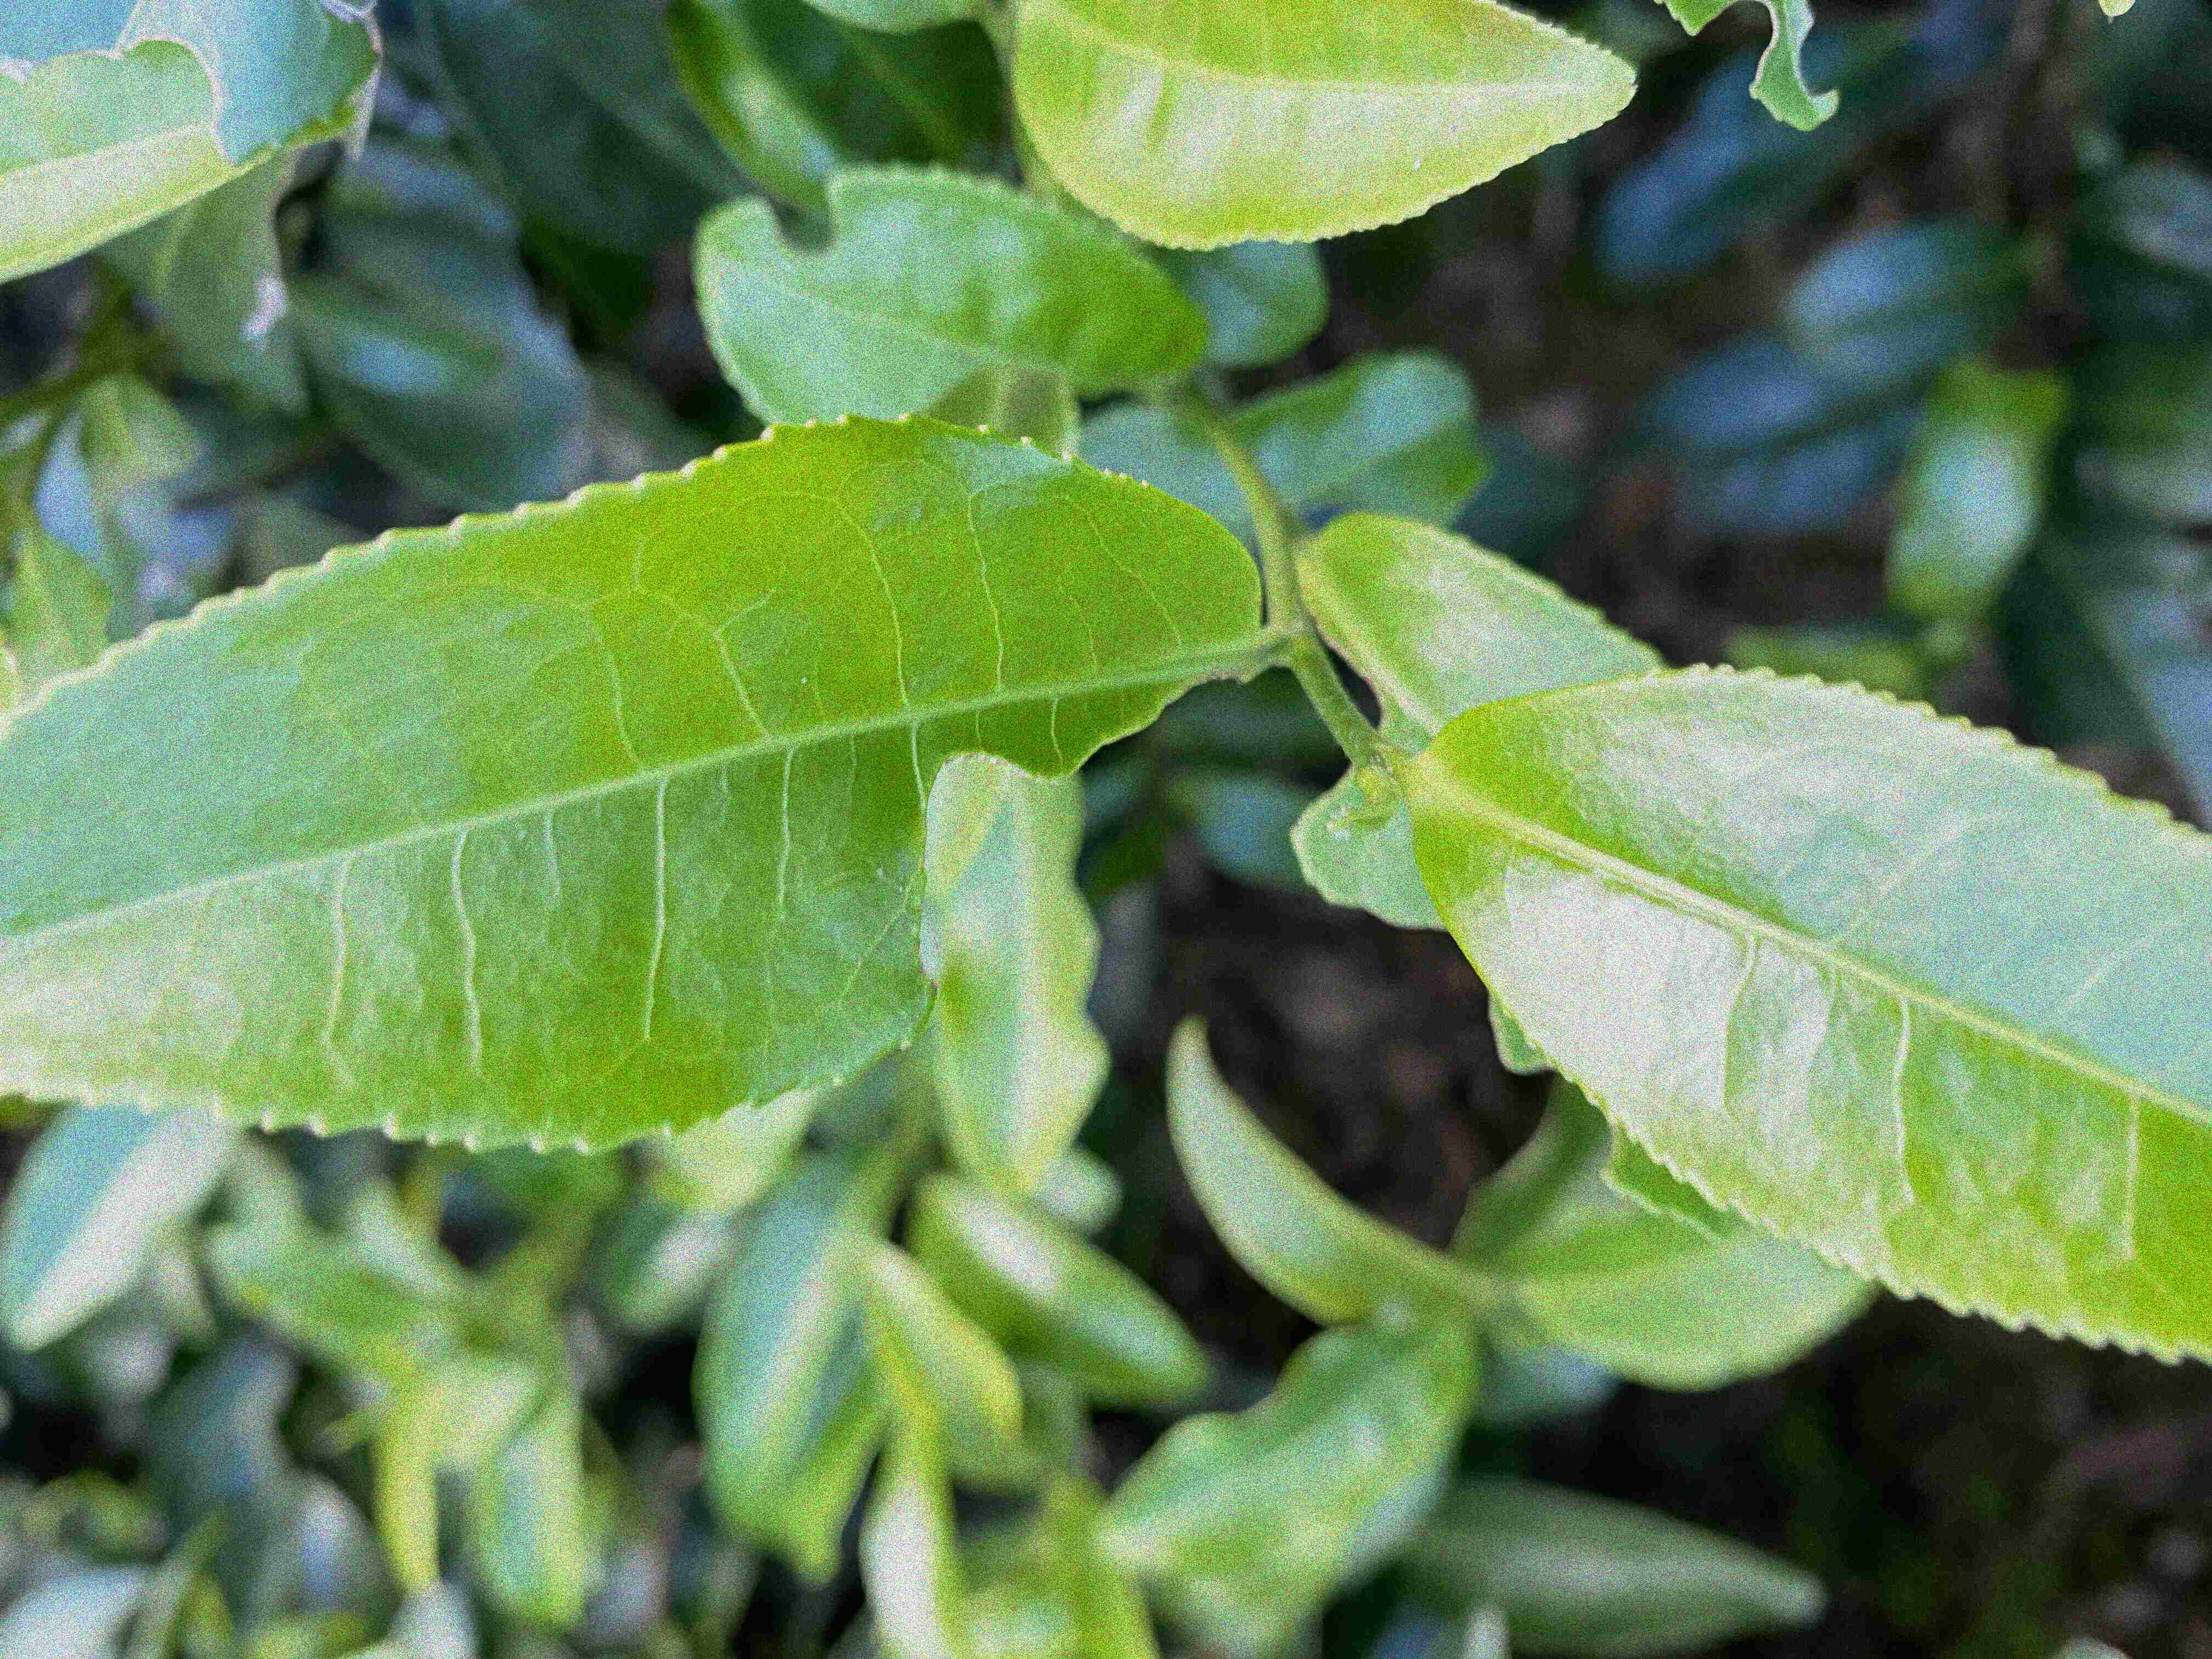chihuo_high: (3, 411, 1264, 1154), (1649, 2, 1848, 136)
healthy: (1414, 660, 2212, 1370), (1019, 3, 1651, 253)
